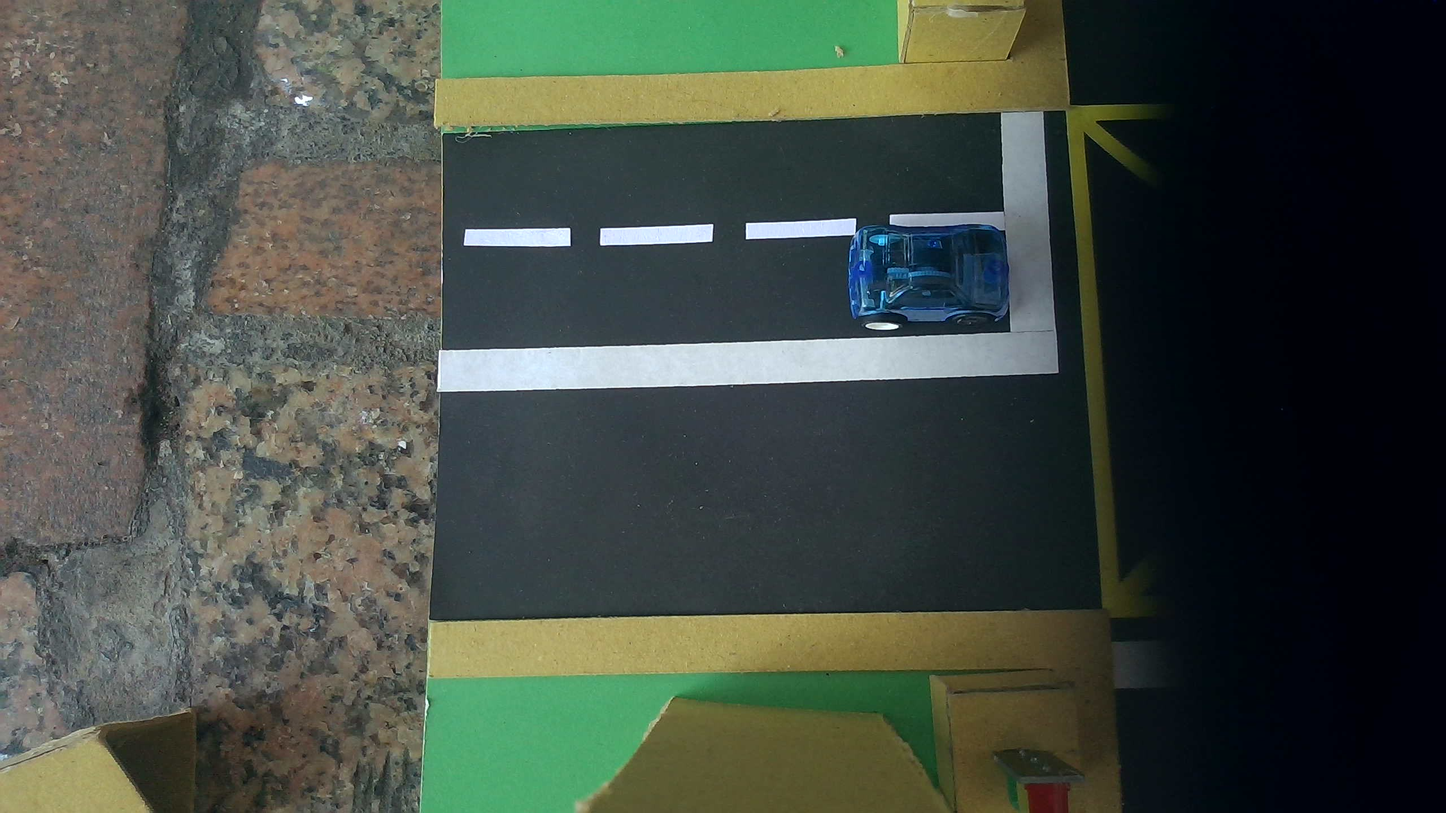Mobil biru: (848, 224, 1009, 330)
